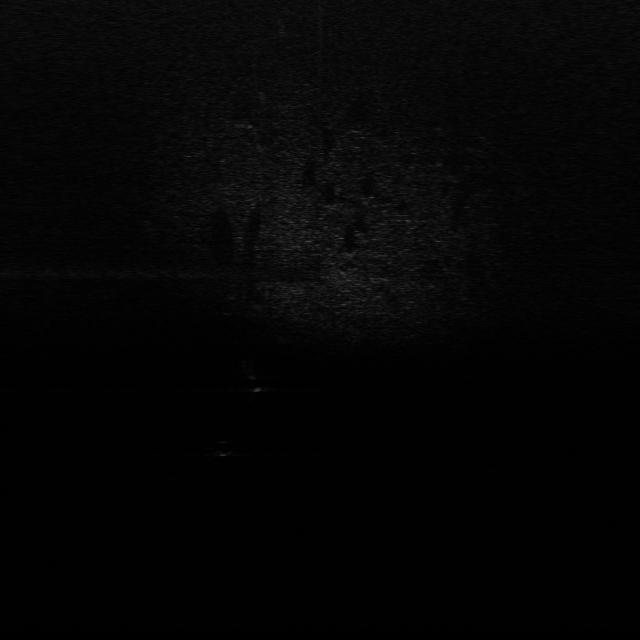ball: (209, 439, 237, 457)
human body: (241, 358, 267, 408)
